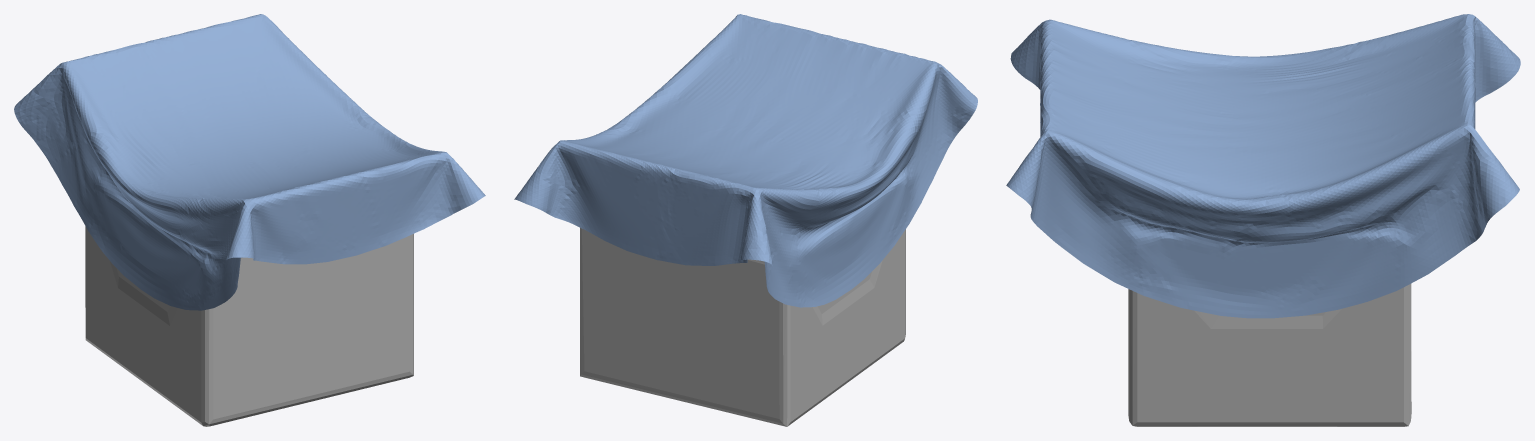
File: level_3.glb
3 renders of one model, left to right at view 1: azimuth 30°, elevation 25°; view 2: azimuth 150°, elevation 25°; view 3: azimuth 270°, elevation 25°, orthographic. The views are drawn at different scales.
Parts seen in each view (by area): view 1: world, object.obj; view 2: world, object.obj; view 3: world, object.obj.
Part boxes in pixels (box(x1,y1,x2,y2)): world: box(14, 14, 485, 310); object.obj: box(85, 226, 413, 426); world: box(514, 14, 977, 307); object.obj: box(580, 228, 905, 426); world: box(1006, 14, 1520, 318); object.obj: box(1128, 284, 1411, 426).
Size of the model in its own units: 0.3138 by 0.2962 by 0.4593.
